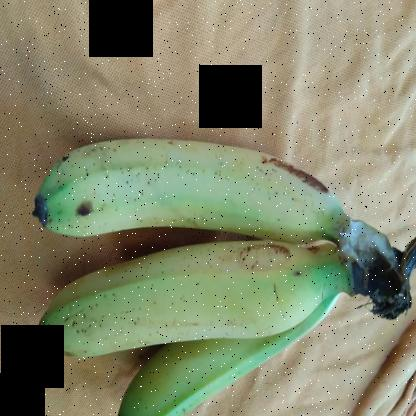ripe: (27, 227, 320, 369), (25, 132, 323, 246)
